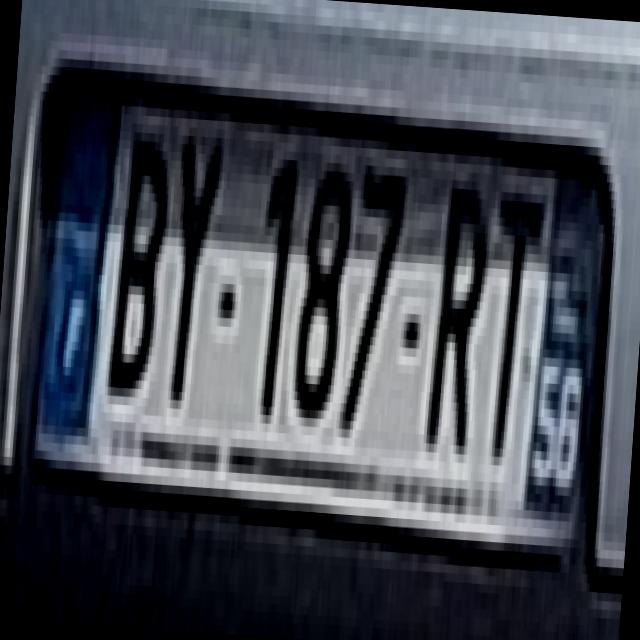EU: (29, 84, 612, 548)
France: (33, 83, 123, 439)
